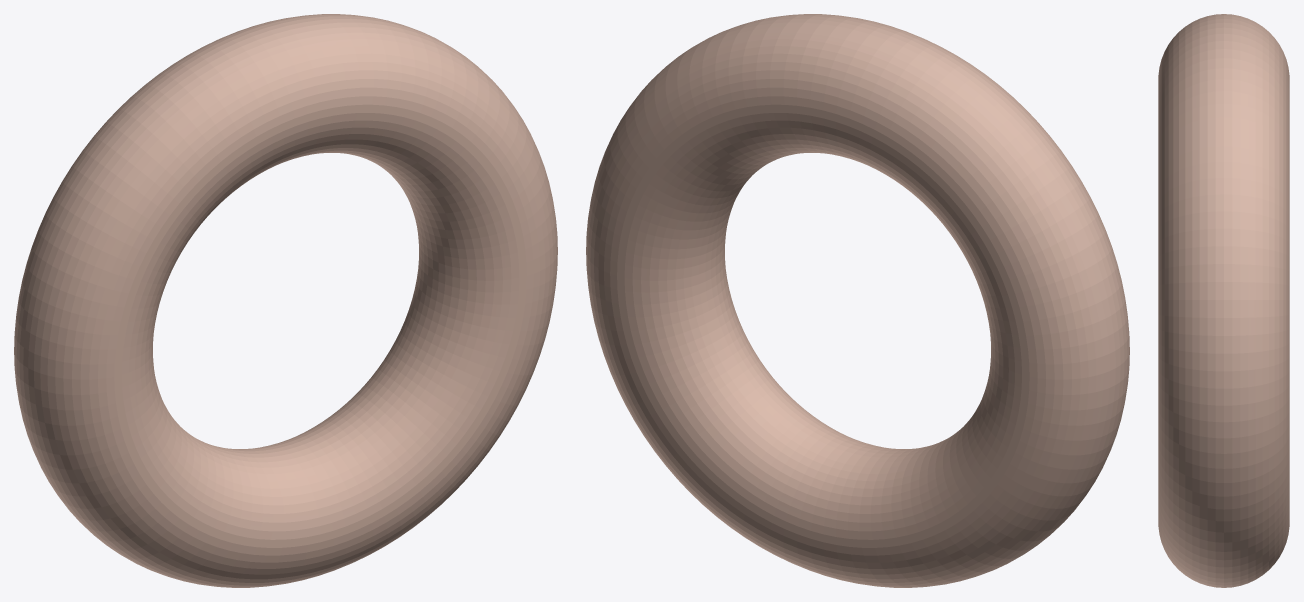
3 views of the same model, side by side, from view 1: azimuth 30°, elevation 25°; view 2: azimuth 150°, elevation 25°; view 3: azimuth 270°, elevation 25° (orthographic). The views are drawn at different scales.
Visible parts, largest first — view 1: world; view 2: world; view 3: world.
Part boxes in pixels (x1,y1,x2,y2): world: (14, 14, 557, 587); world: (586, 14, 1129, 587); world: (1158, 14, 1289, 587).
Size of the model in its own units: 28.53 by 28.53 by 6.52.
